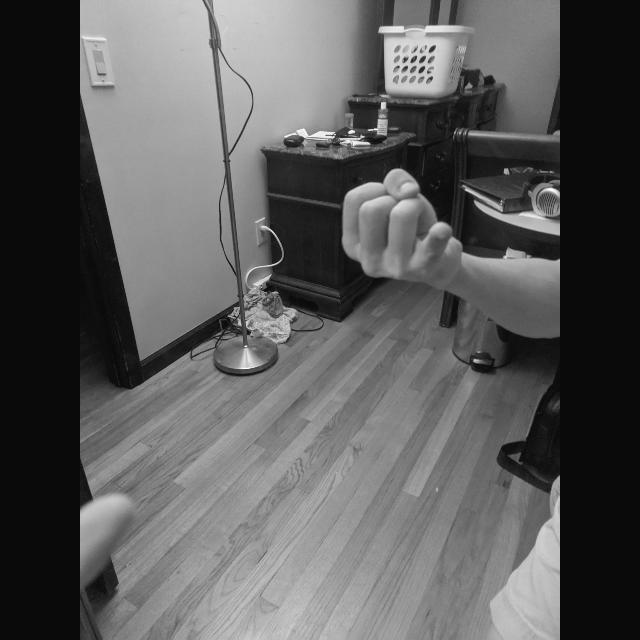J: (338, 162, 464, 288)
